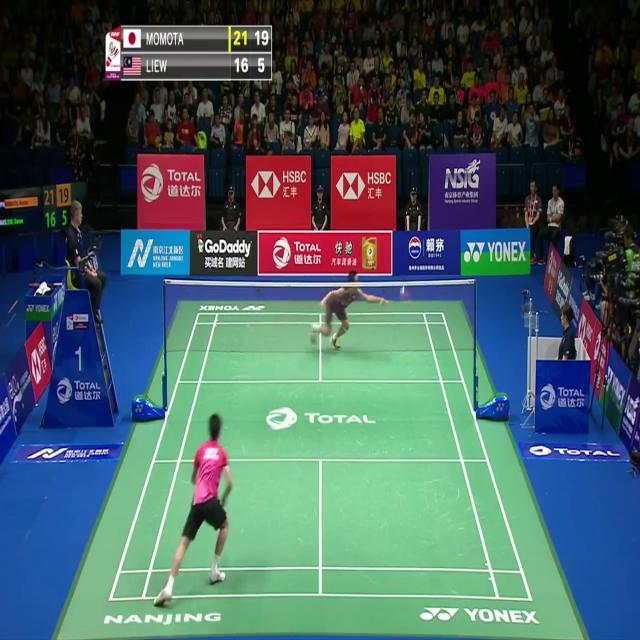Shuttlecock: (400, 284, 406, 296)
